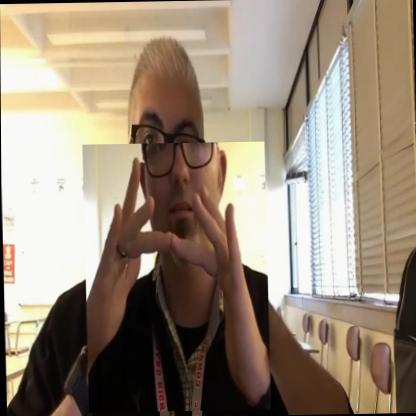Internet: (82, 140, 269, 413)
